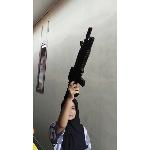Senapan: (61, 24, 97, 104)
